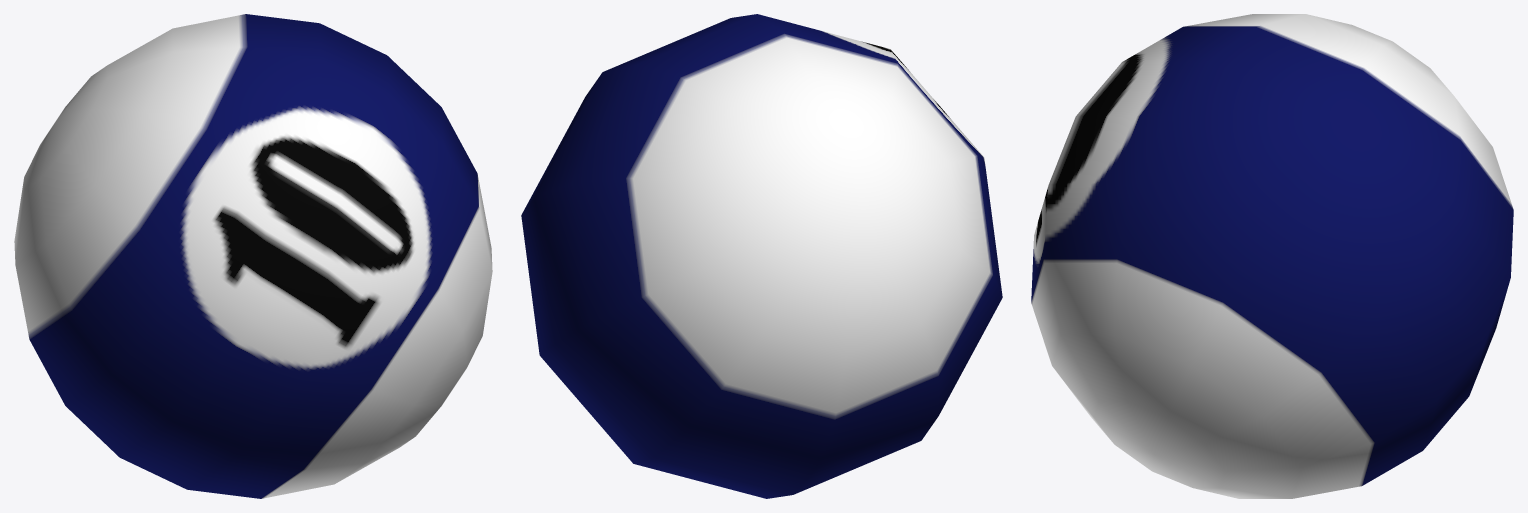
File: Ball10.gltf
3 renders of one model, left to right at view 1: azimuth 30°, elevation 25°; view 2: azimuth 150°, elevation 25°; view 3: azimuth 270°, elevation 25°, orthographic.
Visible parts, largest first — view 1: Ball10_Material_#27_0; view 2: Ball10_Material_#27_0; view 3: Ball10_Material_#27_0.
Boxes of the visible parts, <box> form: Ball10_Material_#27_0: <box>14,14,492,498</box>; Ball10_Material_#27_0: <box>521,14,1002,498</box>; Ball10_Material_#27_0: <box>1031,14,1513,498</box>.
Bounding box in the file's own units: 5.66 × 5.76 × 5.66.
1 material, 1 textured.
